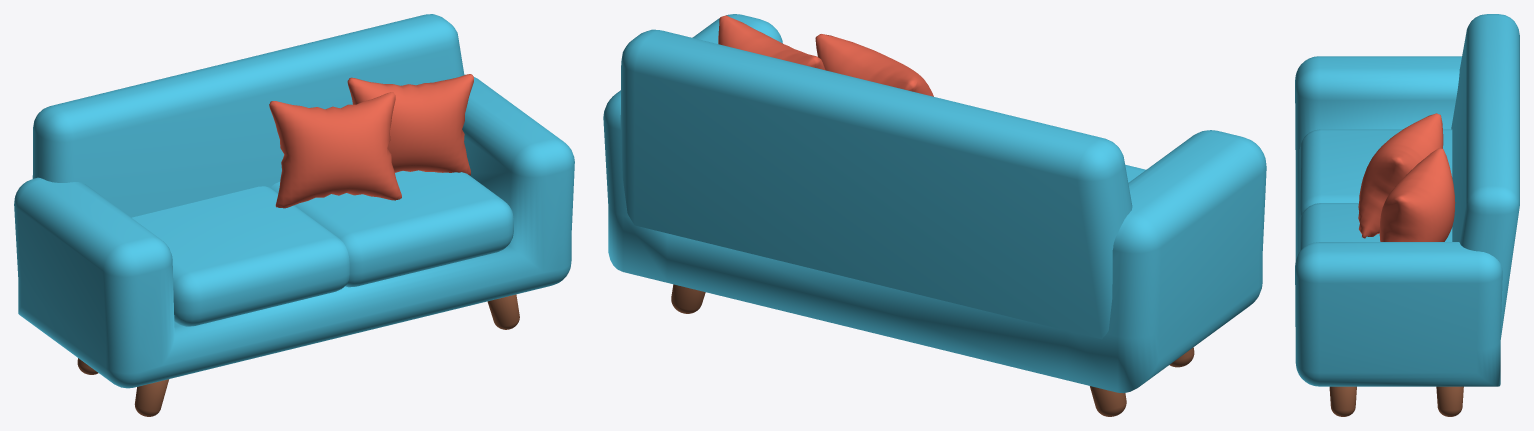
The model's file is Seat-3.fbx.
3 views of the same model, side by side, from view 1: azimuth 30°, elevation 25°; view 2: azimuth 150°, elevation 25°; view 3: azimuth 270°, elevation 25° (orthographic). The views are drawn at different scales.
Visible parts, largest first — view 1: Cube, Cube.005, Cube.001, Cube.007, Plane.002, Plane.001, Cylinder; view 2: Cube.005, Cube, Plane.002, Plane.001, Cylinder.001; view 3: Cube, Cube.005, Cube.001, Plane.001, Plane.002, Cube.007, Cylinder.001, Cylinder.
Part boxes in pixels (left/top/right/bottom): Cube: left=14, top=74, right=574, bottom=388; Cube.005: left=32, top=14, right=464, bottom=217; Cube.001: left=132, top=186, right=349, bottom=326; Cube.007: left=270, top=170, right=513, bottom=287; Plane.002: left=269, top=92, right=401, bottom=208; Plane.001: left=347, top=74, right=473, bottom=175; Cylinder: left=134, top=294, right=519, bottom=416; Cube.005: left=620, top=29, right=1132, bottom=339; Cube: left=603, top=14, right=1266, bottom=393; Plane.002: left=815, top=34, right=933, bottom=96; Plane.001: left=718, top=15, right=825, bottom=69; Cylinder.001: left=671, top=284, right=1126, bottom=416; Cube: left=1295, top=56, right=1502, bottom=386; Cube.005: left=1451, top=14, right=1519, bottom=339; Cube.001: left=1299, top=129, right=1452, bottom=222; Plane.001: left=1379, top=148, right=1455, bottom=241; Plane.002: left=1358, top=113, right=1443, bottom=238; Cube.007: left=1299, top=203, right=1452, bottom=251; Cylinder.001: left=1436, top=386, right=1463, bottom=416; Cylinder: left=1329, top=386, right=1356, bottom=416.
Bounding box in the file's own units: 4.86 × 2.48 × 2.17.
